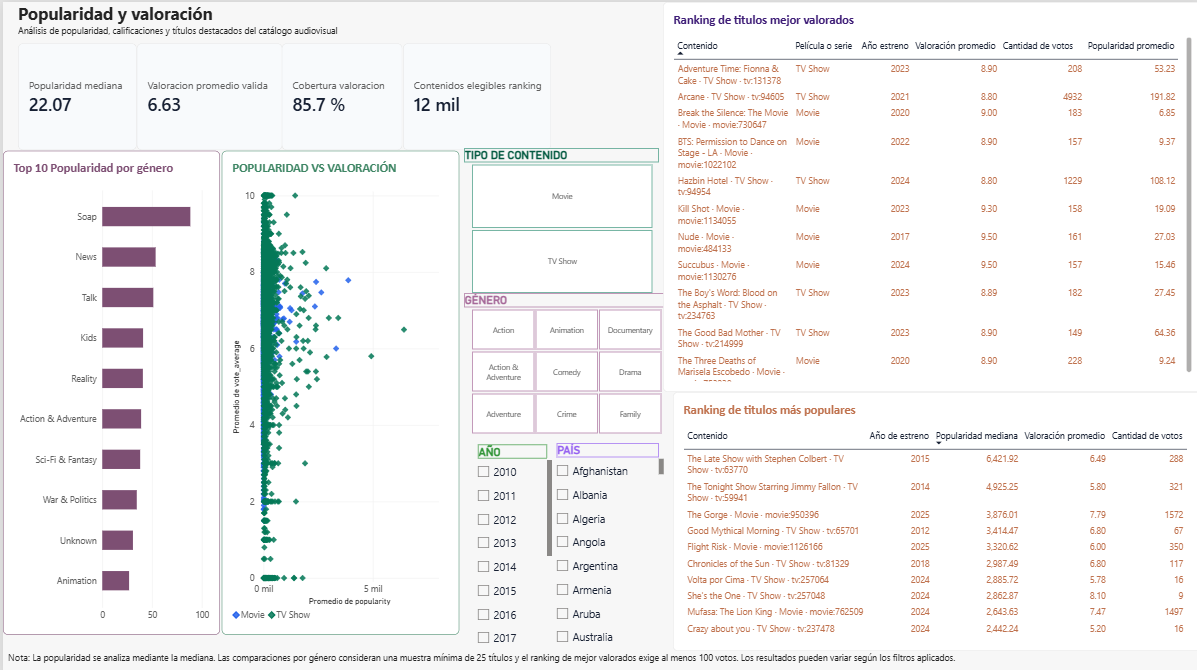

What the dashboard file says about the page in this screenshot:
{"tool":"powerbi","page":{"name":"Popularidad y valoración","canvas":[1920,1080],"ordinal":2},"visuals":[{"type":"cardVisual","fields":{"Data":["catalogo.Popularidad mediana"]},"box":[23.5,67,190,171.9],"z":0},{"type":"cardVisual","fields":{"Data":["catalogo.Valoracion promedio valida"]},"box":[213.5,67,233.4,171.9],"z":1000},{"type":"cardVisual","fields":{"Data":["catalogo.Cobertura valoracion"]},"box":[447,67,193.6,171.9],"z":2000},{"type":"cardVisual","fields":{"Data":["catalogo.Contenidos elegibles ranking"]},"box":[640.6,67,237.1,171.9],"z":3000},{"type":"slicer","fields":{"Values":["dim_generos.genre"]},"box":[729.3,466.9,342,226.2],"z":4000},{"type":"slicer","fields":{"Values":["catalogo.type"]},"box":[729.3,233.4,327.5,233.4],"z":5000},{"type":"slicer","fields":{"Values":["dim_paises.country"]},"box":[877.7,705.8,179.2,333],"z":6000},{"type":"slicer","fields":{"Values":["dim_anio_estreno.release_year"]},"box":[751,707.6,126.7,331.2],"z":7000},{"type":"clusteredBarChart","title":"Top 10 Popularidad por género","fields":{"Category":["dim_generos.genre"],"Y":["catalogo.Popularidad genero con muestra suficiente"]},"box":[0,237.1,347.5,774.5],"z":8000},{"type":"scatterChart","title":"POPULARIDAD VS VALORACIÓN","fields":{"Category":["catalogo.content_id"],"Series":["catalogo.type"],"X":["Avg(catalogo.popularity)"],"Y":["Avg(catalogo.vote_average)"]},"box":[349.3,237.1,380,774.5],"z":9000},{"type":"tableEx","title":"Ranking de titulos mejor valorados","fields":{"Values":["catalogo.Etiqueta contenido","catalogo.type","dim_anio_estreno.release_year","Avg(catalogo.vote_average)","Max(catalogo.vote_count)","Avg(catalogo.popularity)"]},"box":[1056.8,0,863.2,624.3],"z":10000},{"type":"tableEx","title":"Ranking de titulos más populares","fields":{"Values":["catalogo.Etiqueta contenido","catalogo.release_year","catalogo.Popularidad mediana","catalogo.Valoracion promedio valida","catalogo.Votos registrados"]},"box":[1071.3,624.3,848.7,414.4],"z":10001},{"type":"textbox","box":[23.5,0,582.7,67],"z":10002},{"type":"textbox","box":[7.2,1038.7,1541.8,41.6],"z":10003}]}

Visuals, with their boxes in screenshot pixels (x1, y1, x2, y2), scaled from the page's 1920x1080 canvas onto the 1197x670 screenshot:
cardVisual - catalogo.Popularidad mediana: <bbox>15, 42, 133, 148</bbox>
cardVisual - catalogo.Valoracion promedio valida: <bbox>133, 42, 279, 148</bbox>
cardVisual - catalogo.Cobertura valoracion: <bbox>279, 42, 399, 148</bbox>
cardVisual - catalogo.Contenidos elegibles ranking: <bbox>399, 42, 547, 148</bbox>
slicer - dim_generos.genre: <bbox>455, 290, 668, 430</bbox>
slicer - catalogo.type: <bbox>455, 145, 659, 290</bbox>
slicer - dim_paises.country: <bbox>547, 438, 659, 644</bbox>
slicer - dim_anio_estreno.release_year: <bbox>468, 439, 547, 644</bbox>
"Top 10 Popularidad por género" clusteredBarChart: <bbox>0, 147, 217, 628</bbox>
"POPULARIDAD VS VALORACIÓN" scatterChart: <bbox>218, 147, 455, 628</bbox>
"Ranking de titulos mejor valorados" tableEx: <bbox>659, 0, 1196, 387</bbox>
"Ranking de titulos más populares" tableEx: <bbox>668, 387, 1196, 644</bbox>
textbox: <bbox>15, 0, 378, 42</bbox>
textbox: <bbox>4, 644, 966, 669</bbox>
